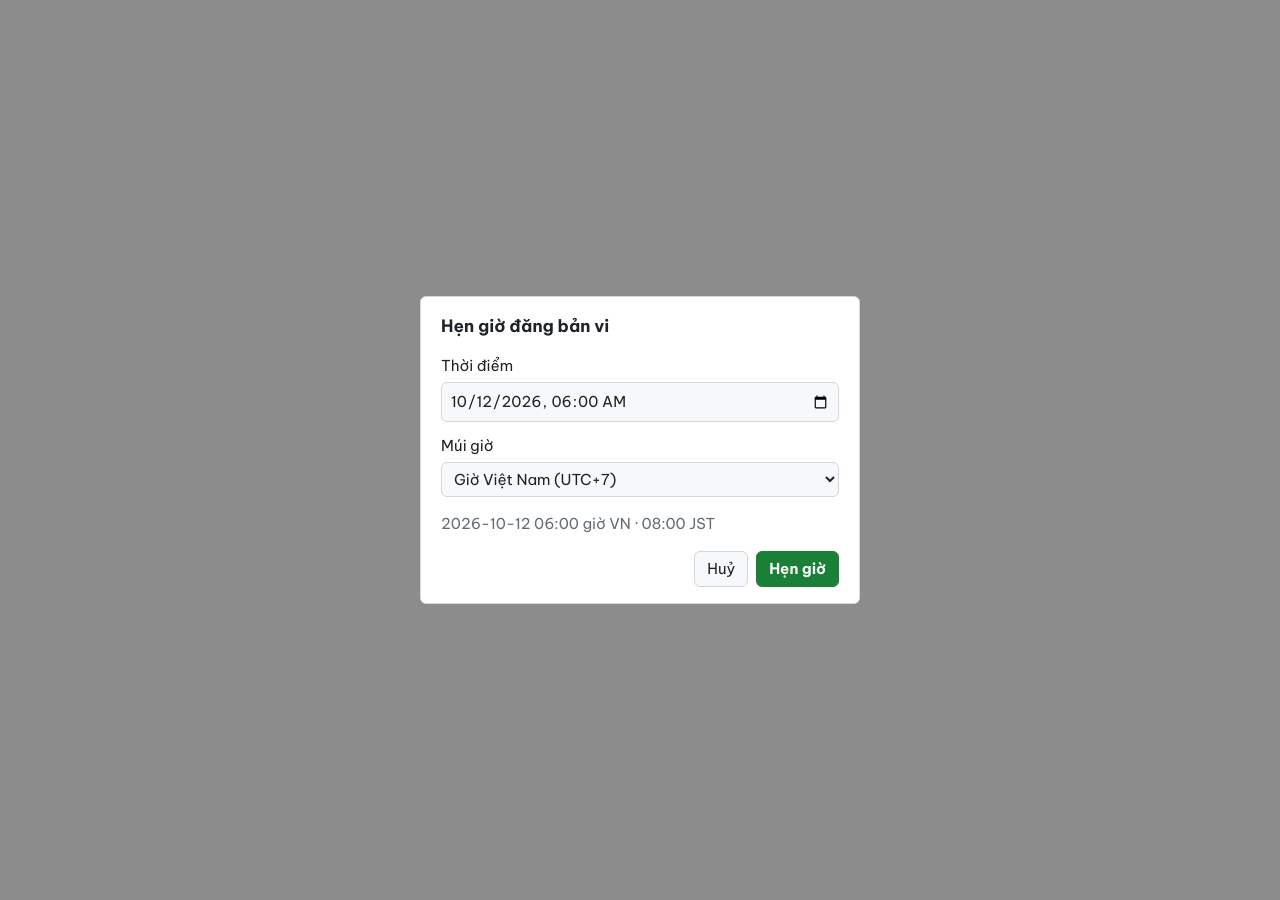
Test: ScheduleDialog › refuses a time less than 2 minutes ahead
Replace the text in the field labelled "Thời điểm" with "2026-10-11T07:01": point(640, 402) x1=441 y1=382 x2=839 y2=422
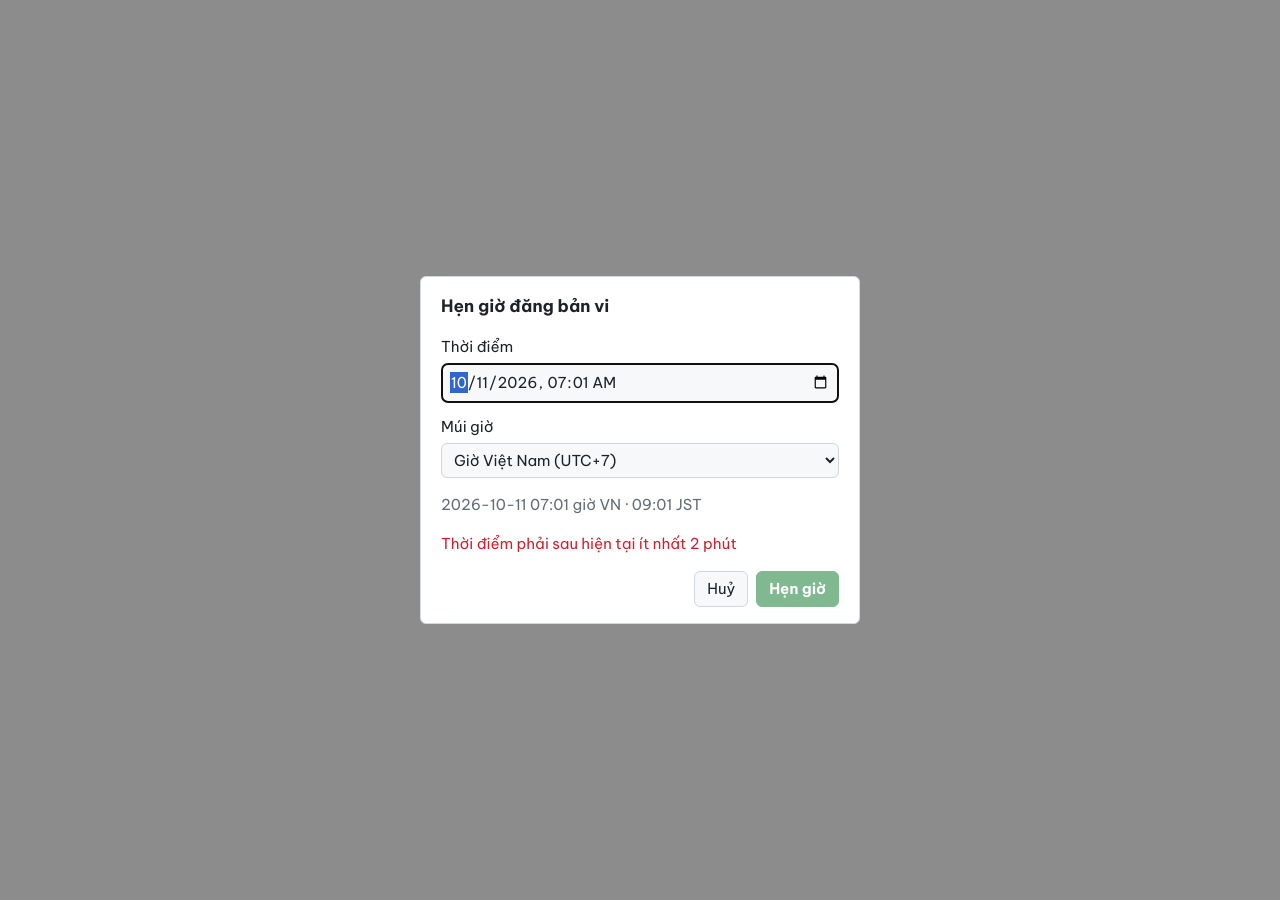
Check: the button "Hẹn giờ" is disabled, box x1=756 y1=571 x2=839 y2=607
Check: the message shows "ít nhất 2 phút", box x1=441 y1=534 x2=737 y2=553
